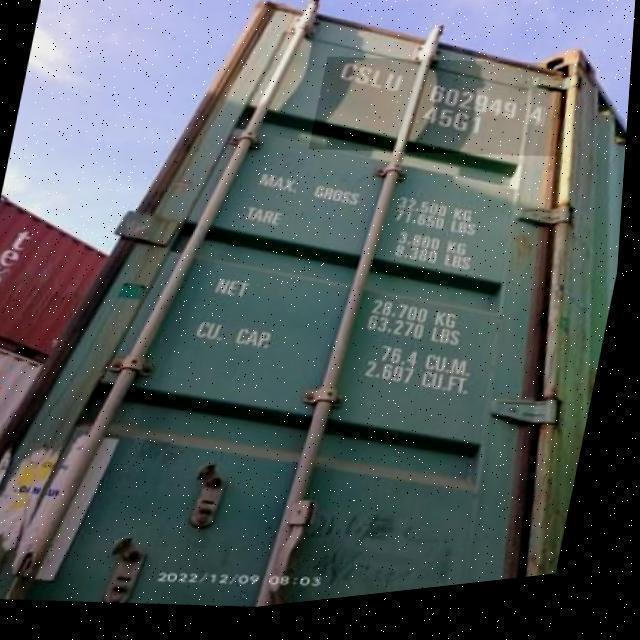ISO: (422, 104, 490, 139)
container_number: (334, 47, 552, 126)
